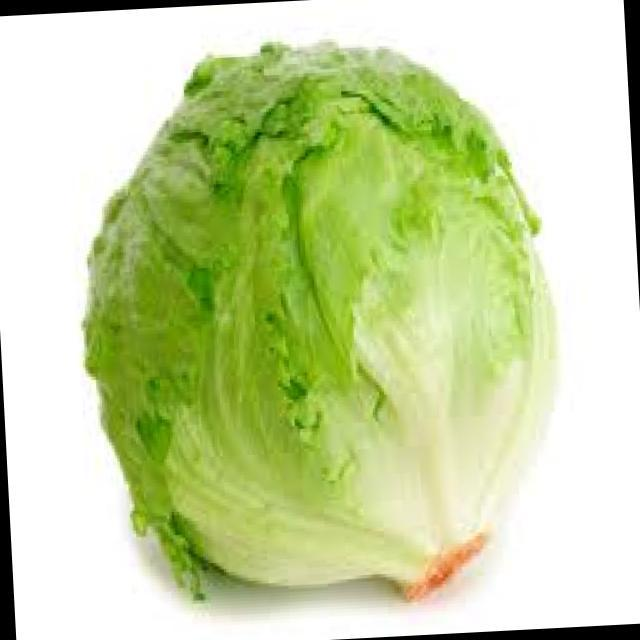Lettuce: (38, 0, 592, 640)
